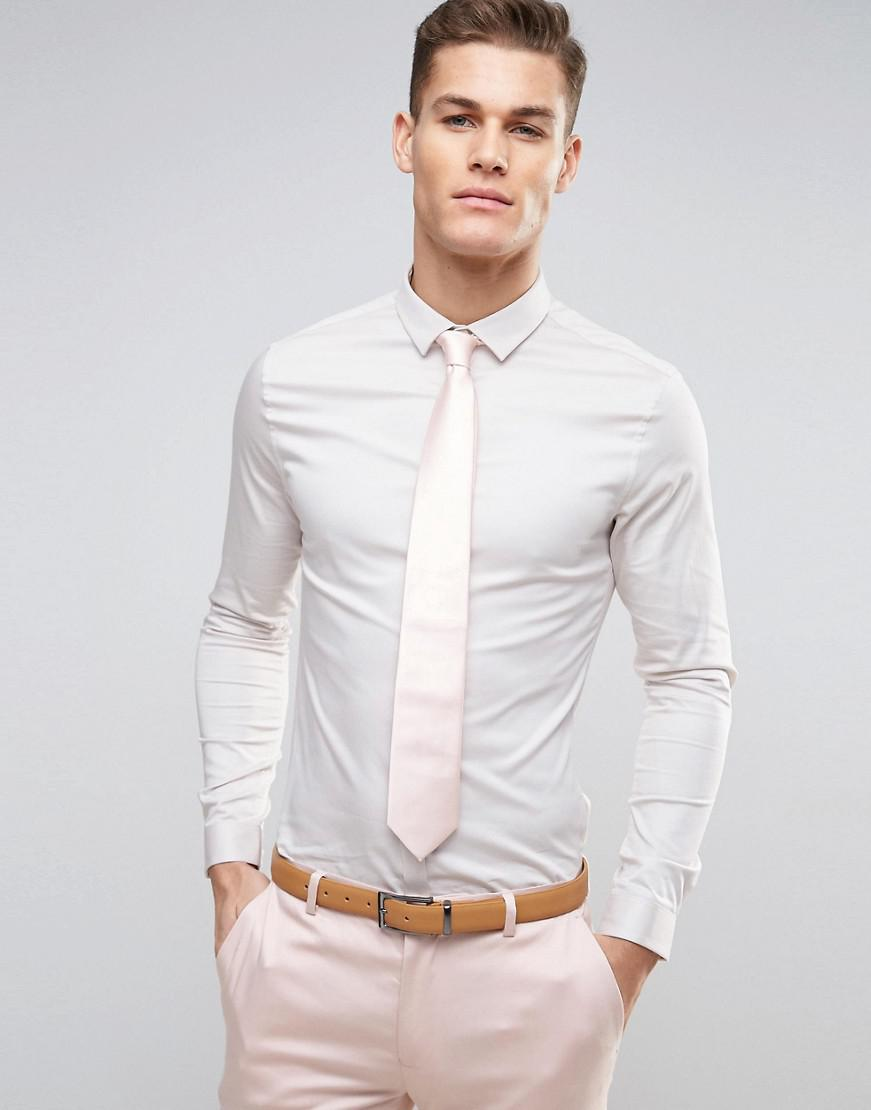teeshirt: (190, 286, 744, 946)
